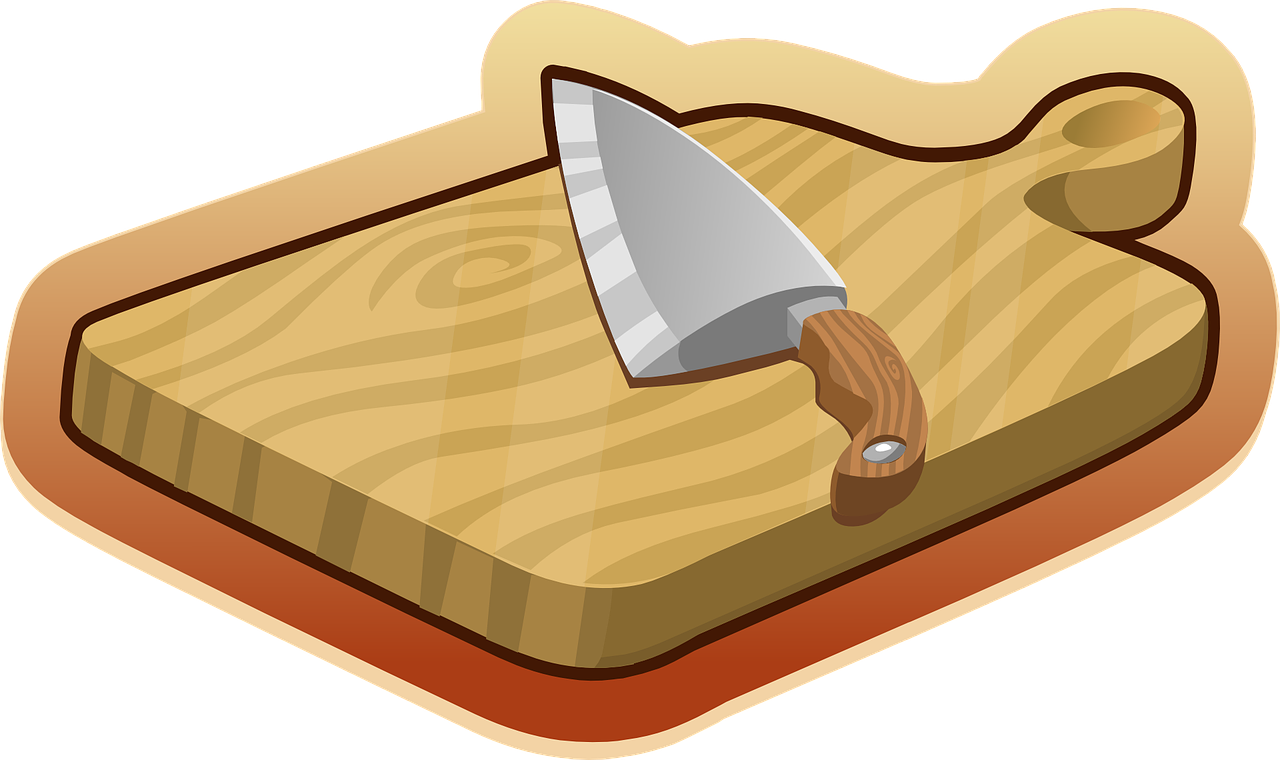knife: (536, 60, 933, 529)
